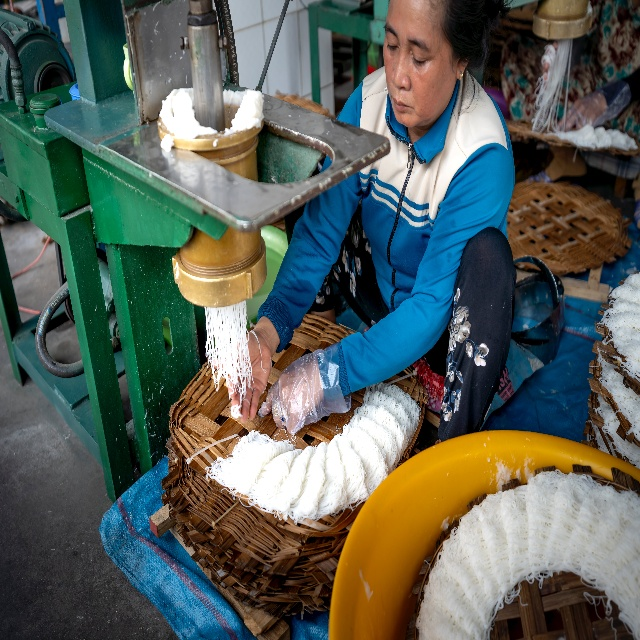Guantes: (258, 342, 353, 436), (558, 82, 626, 133)
Sin_guantes: (227, 329, 272, 422), (261, 360, 315, 432), (558, 91, 606, 132)
